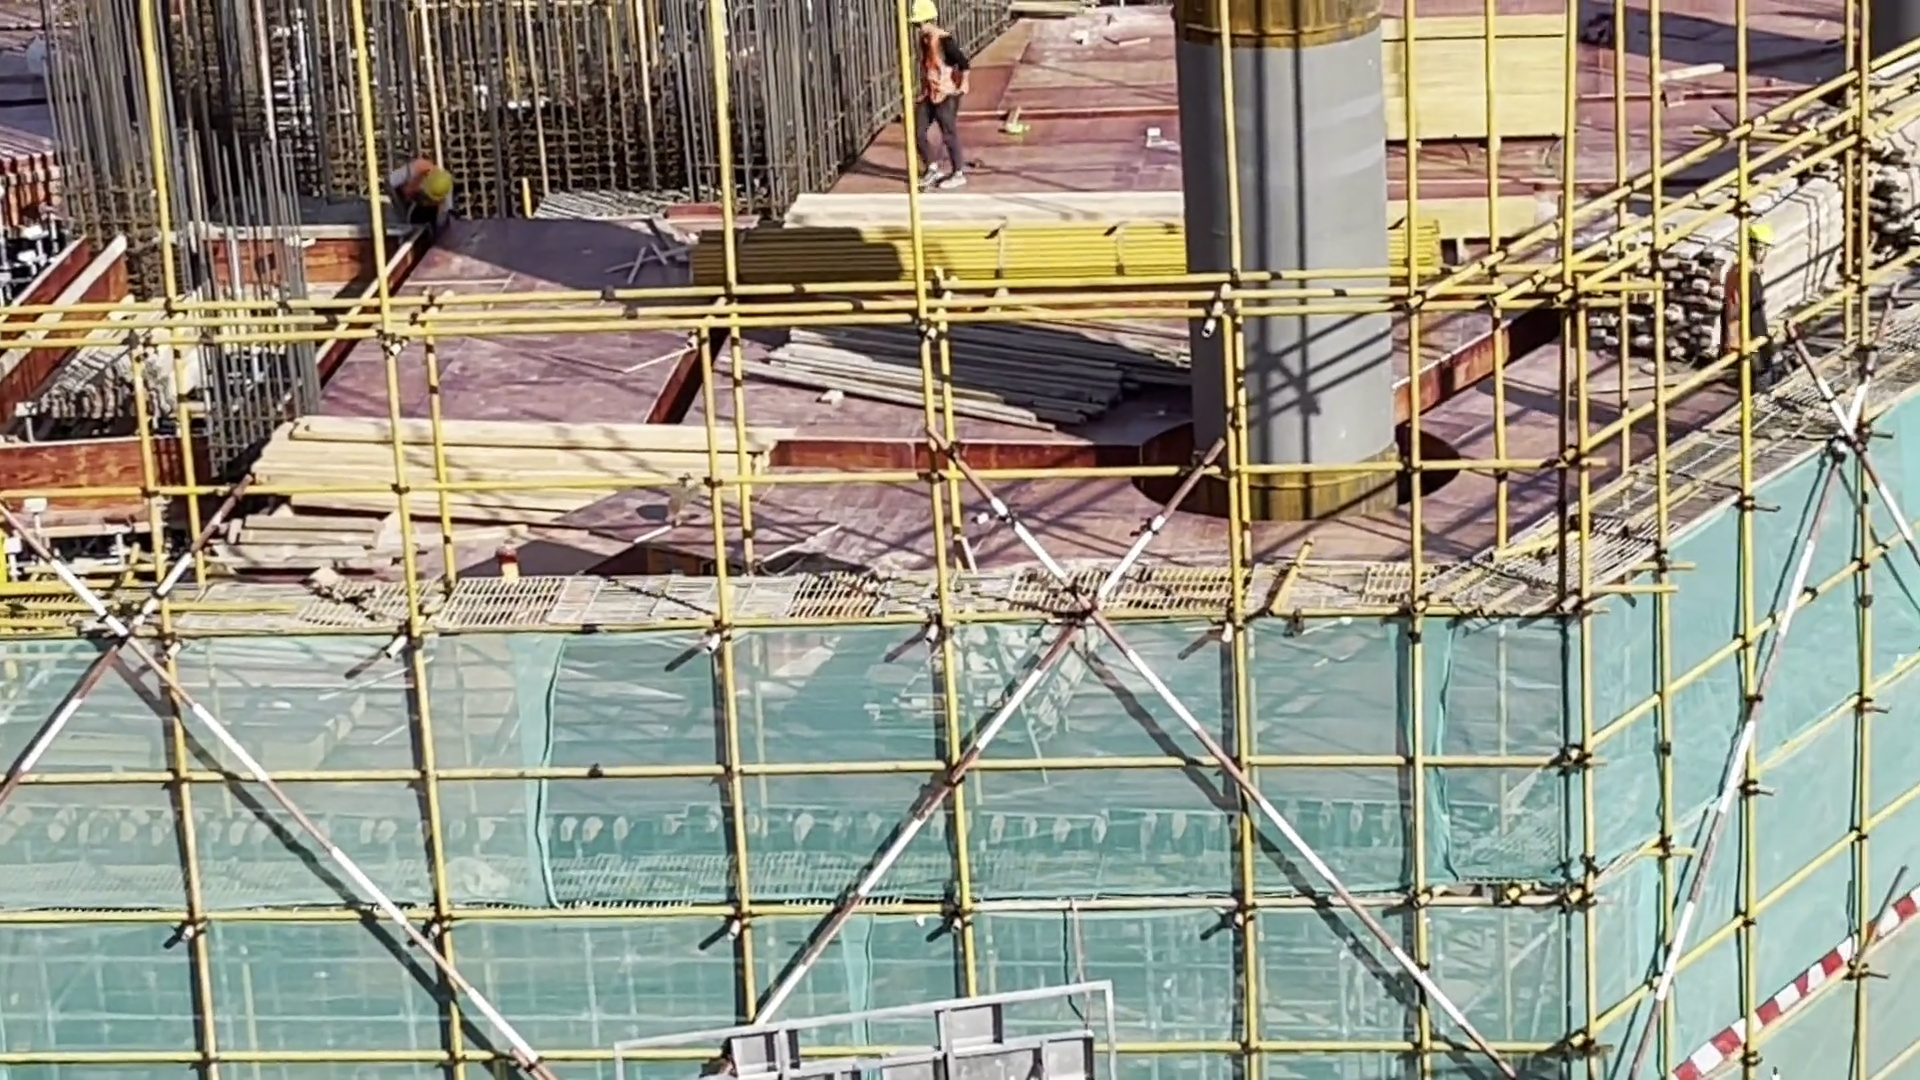helmet: (419, 163, 456, 201), (909, 2, 936, 30)
person: (904, 1, 984, 195), (1719, 216, 1781, 384), (375, 145, 480, 233)
vest: (912, 29, 970, 110), (395, 156, 448, 211)
